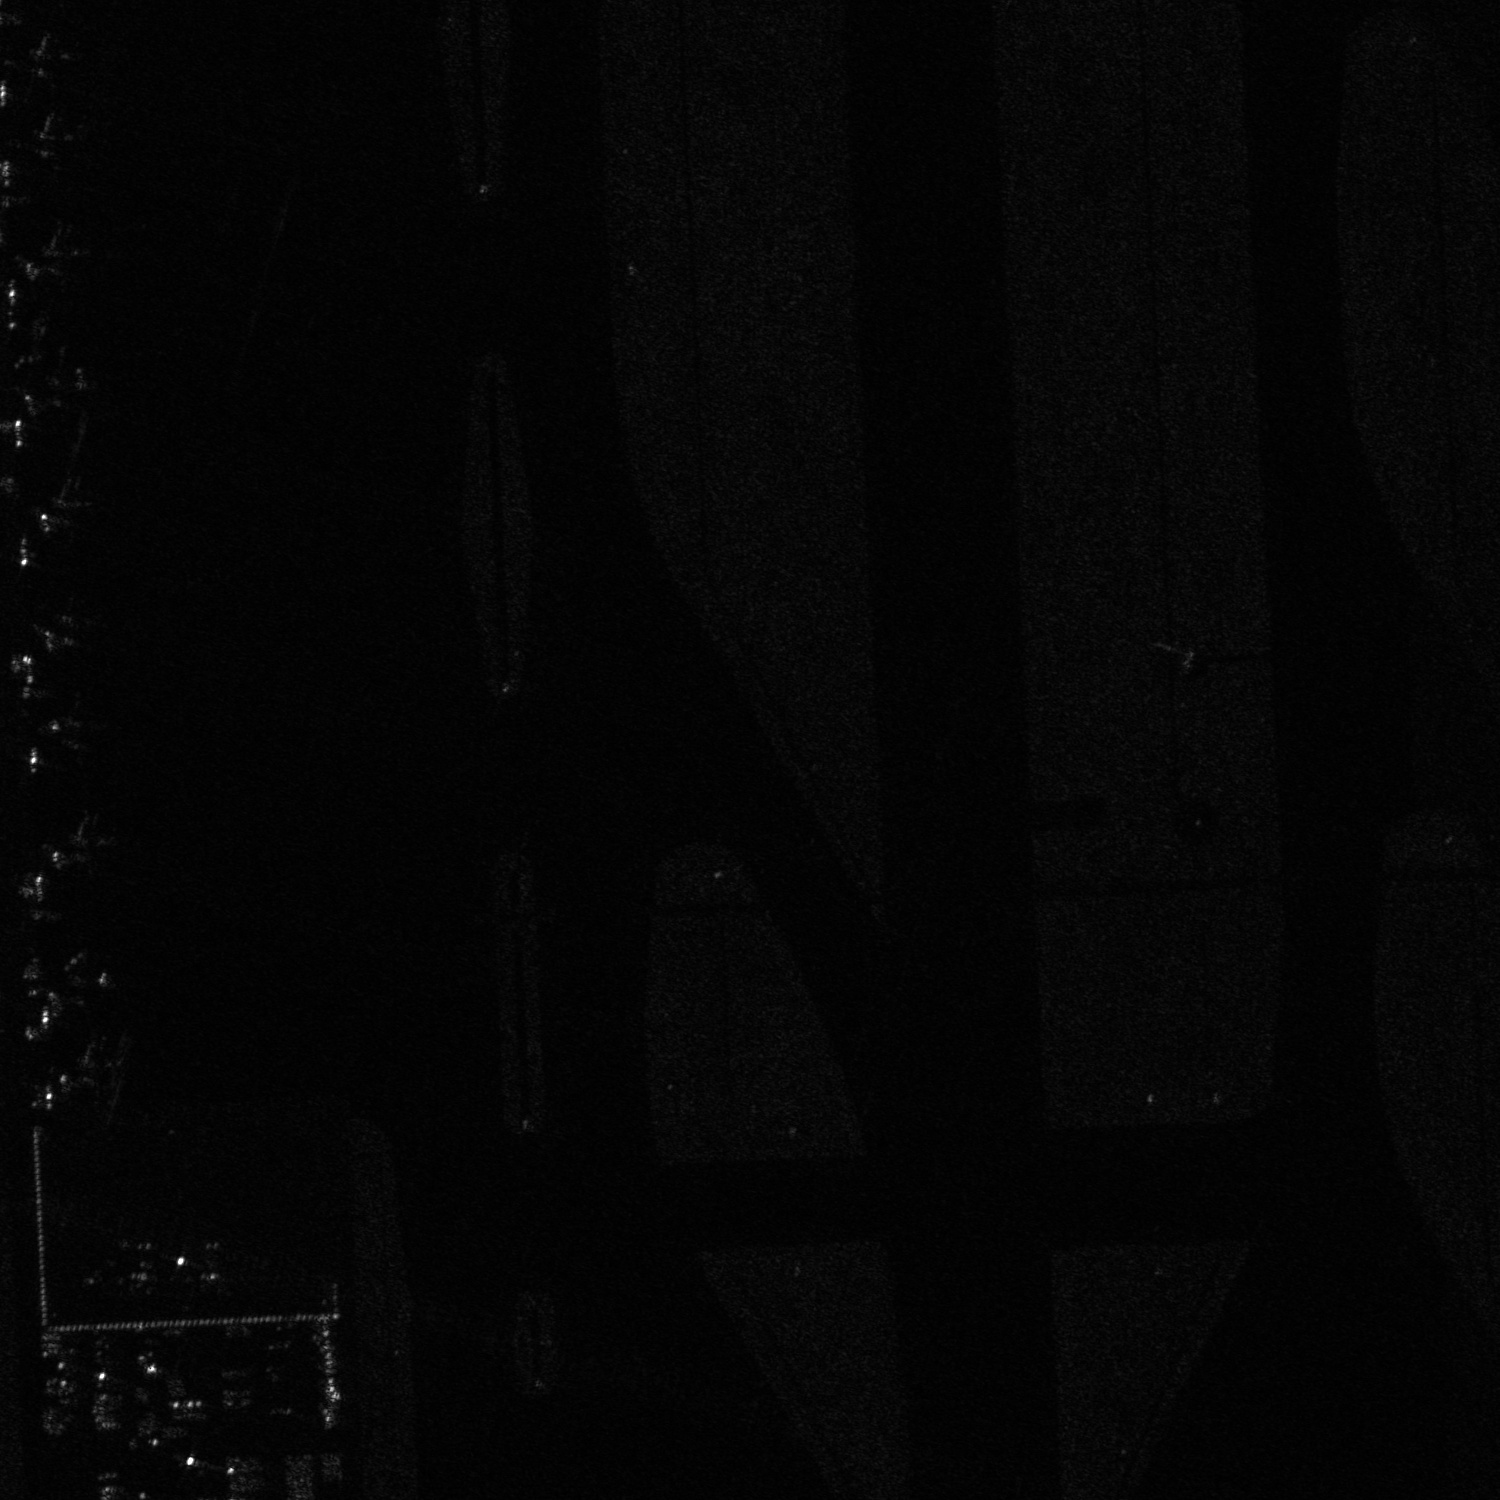A220: (23, 946, 115, 1010), (14, 225, 93, 284)
A320/321: (33, 810, 122, 880), (23, 111, 81, 165)
other: (21, 593, 113, 658), (32, 696, 120, 760)
